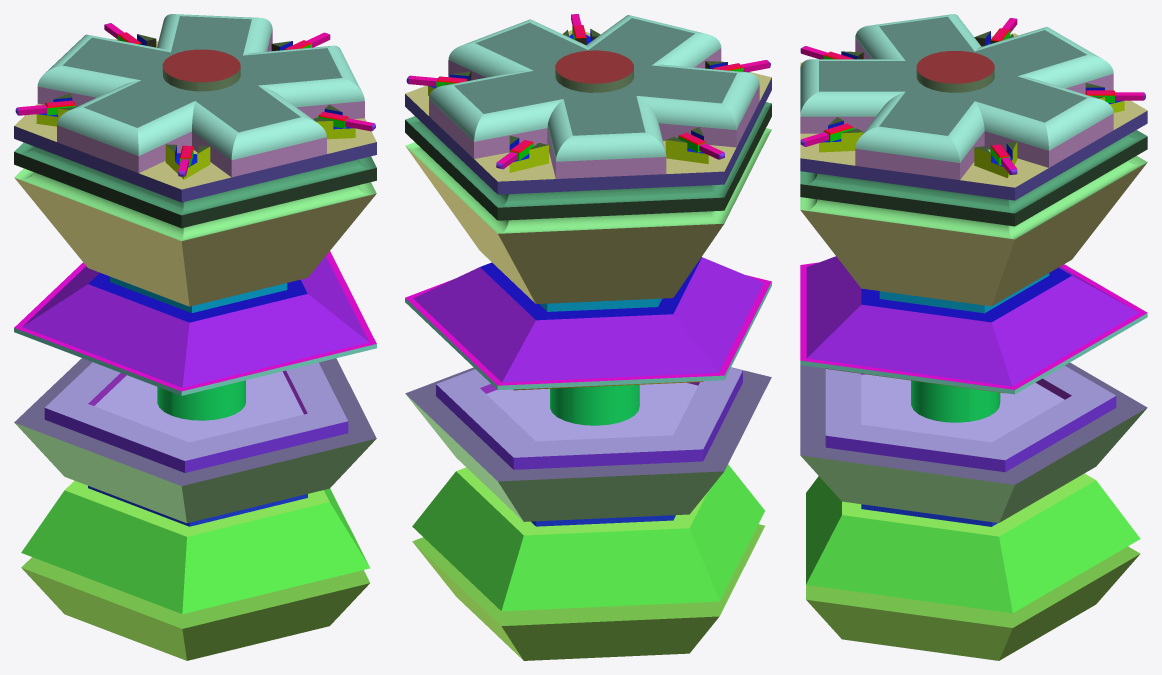
File: Iteration3Colored.fbx
3 renders of one model, left to right at view 1: azimuth 30°, elevation 25°; view 2: azimuth 150°, elevation 25°; view 3: azimuth 270°, elevation 25°, orthographic.
Parts seen in each view (by area): view 1: Model; view 2: Model; view 3: Model.
Boxes of the visible parts, <box> form: Model: <box>14,14,376,660</box>; Model: <box>405,14,771,660</box>; Model: <box>800,14,1147,660</box>.
Size of the model in its own units: 705 by 1143 by 670.
